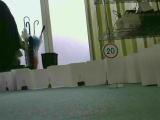speed_20: (101, 42, 119, 59)
